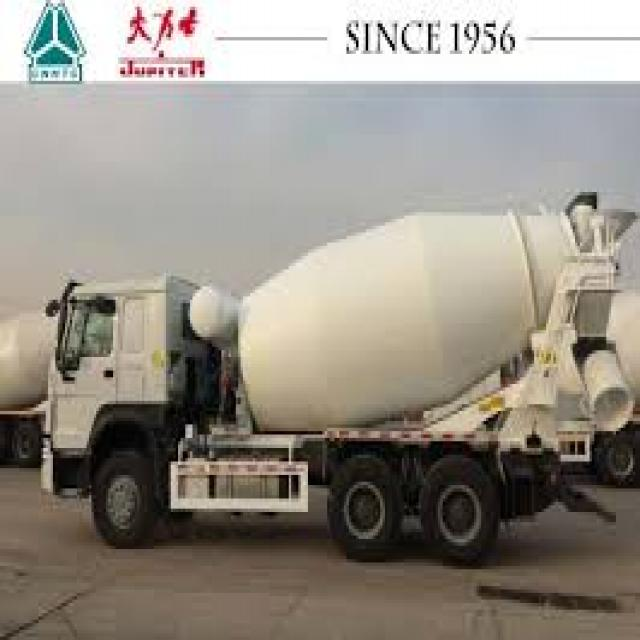Mixer Truck: (40, 186, 626, 564), (561, 285, 640, 488), (0, 306, 74, 469)
